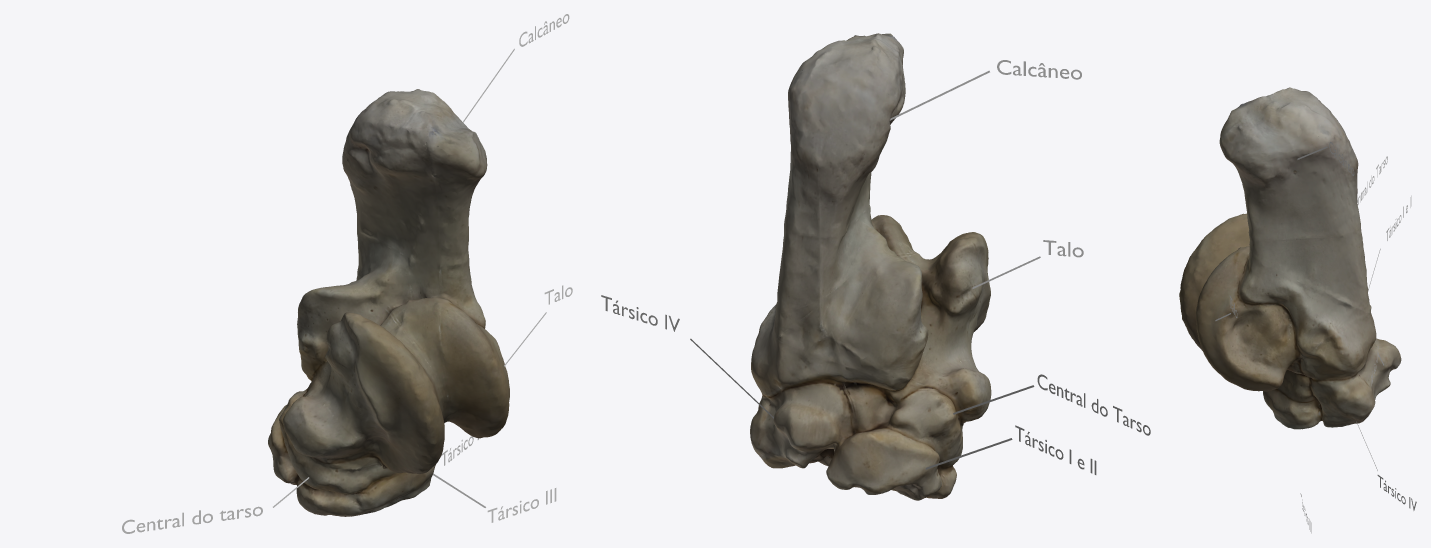
The model's file is Tarso.glb.
The picture shows the model from 3 angles, left to right: view 1: azimuth 30°, elevation 25°; view 2: azimuth 150°, elevation 25°; view 3: azimuth 270°, elevation 25°; orthographic projection. The views are drawn at different scales.
Parts seen in each view (by area): view 1: 3DModel.001, Texto.031; view 2: 3DModel.001, Texto.005; view 3: 3DModel.001.
Part boxes in pixels (<box>): 3DModel.001: <box>268,89,509,516</box>; Texto.031: <box>122,506,262,533</box>; 3DModel.001: <box>750,33,991,500</box>; Texto.005: <box>1037,374,1150,435</box>; 3DModel.001: <box>1179,87,1401,429</box>.
Bounding box in the file's own units: 3.02 × 2.51 × 1.4.
1 material, 1 textured.
